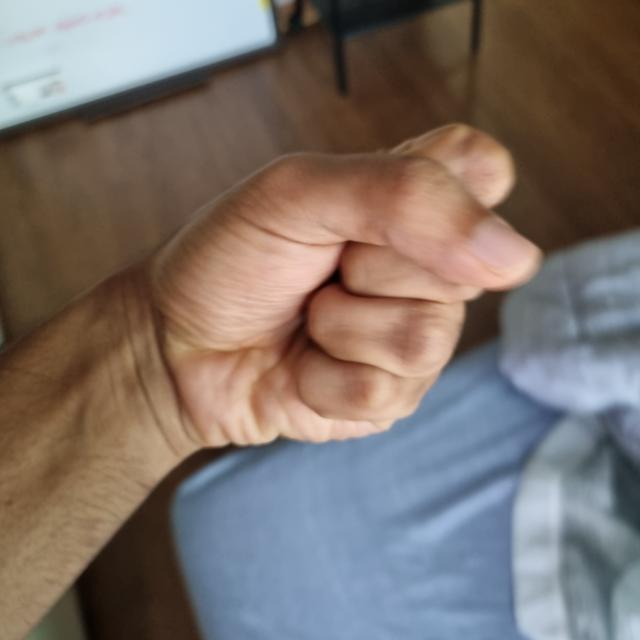Rock: (159, 127, 543, 445)
